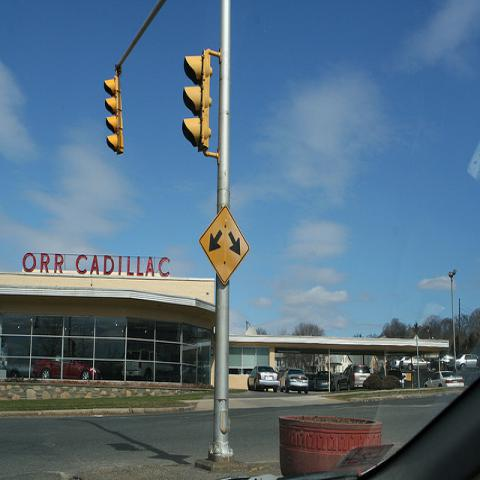car: (31, 353, 102, 379), (122, 349, 174, 381), (337, 364, 372, 392), (248, 366, 280, 392), (281, 368, 310, 396), (424, 371, 465, 388), (448, 353, 480, 371), (400, 356, 431, 371), (312, 370, 329, 391), (388, 369, 406, 387), (393, 356, 409, 369)
